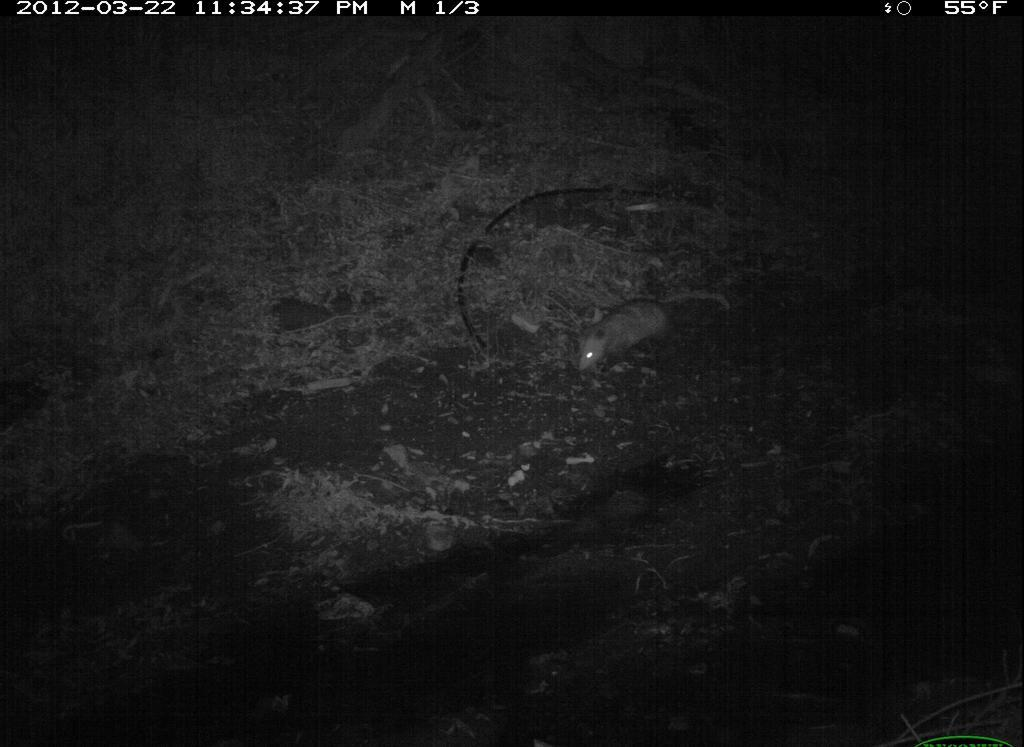opossum: (557, 282, 720, 388)
